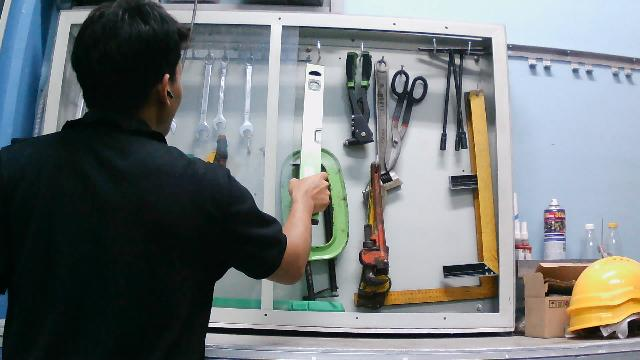water_pass: (296, 60, 328, 228)
